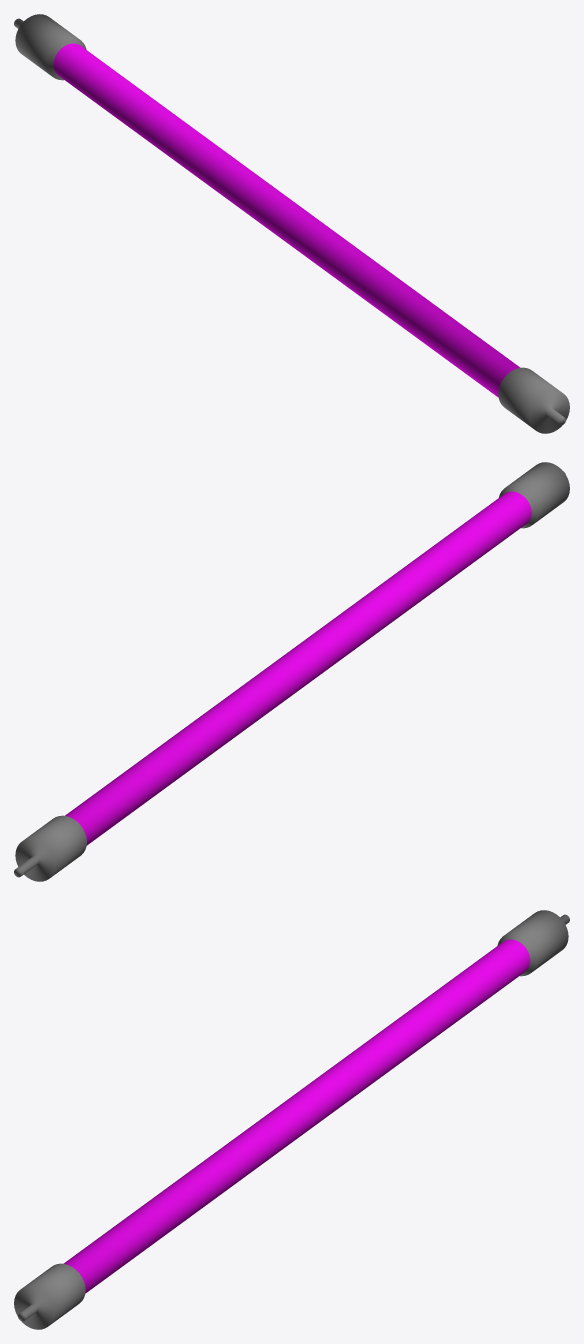
File: florecent.fbx
3 views of the same model, one above another, from view 1: azimuth 30°, elevation 25°; view 2: azimuth 150°, elevation 25°; view 3: azimuth 330°, elevation 25° (orthographic).
Visible parts, largest first — view 1: Cylinder; view 2: Cylinder; view 3: Cylinder.
Boxes of the visible parts, x1,y1,x2,y2 form: Cylinder: [14, 14, 569, 433]; Cylinder: [14, 462, 569, 881]; Cylinder: [14, 910, 569, 1329].
Size of the model in its own units: 200 by 200 by 4695.
